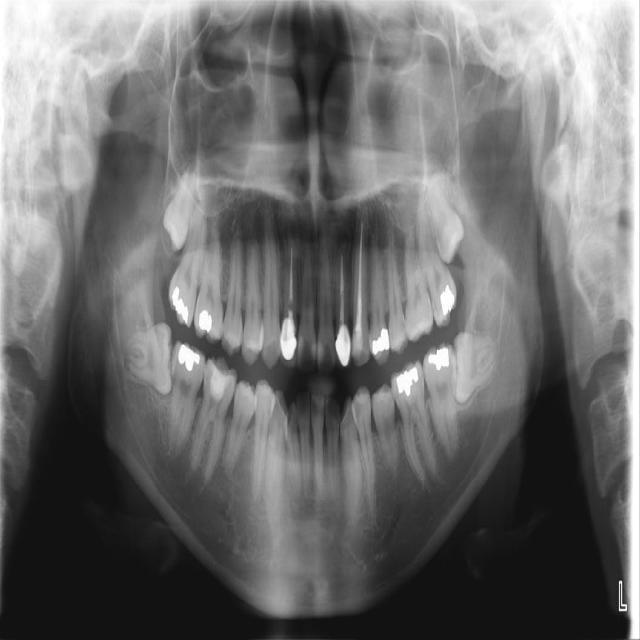Crown: (279, 317, 299, 368), (335, 324, 351, 369)
Filling: (202, 355, 238, 415), (351, 318, 372, 367), (397, 366, 421, 399), (176, 344, 200, 374), (171, 284, 189, 323), (436, 283, 458, 314), (428, 346, 453, 373), (371, 327, 390, 355), (195, 309, 215, 334)
Root Canal Treatment: (358, 225, 363, 321), (287, 245, 293, 317), (340, 258, 345, 323)
impacted tooth: (119, 322, 170, 392), (423, 178, 464, 263), (454, 332, 499, 404), (161, 162, 196, 250)
